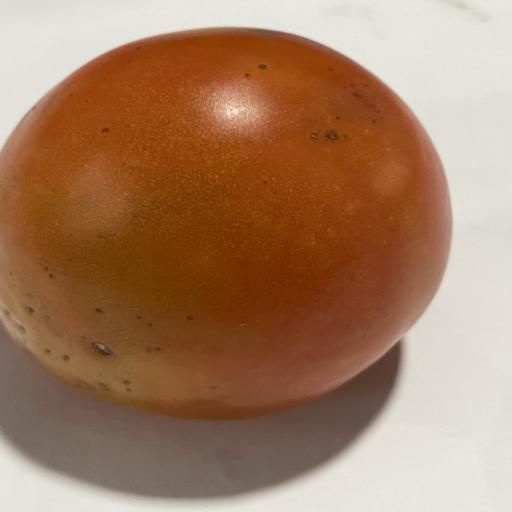unripe: (0, 28, 451, 419)
